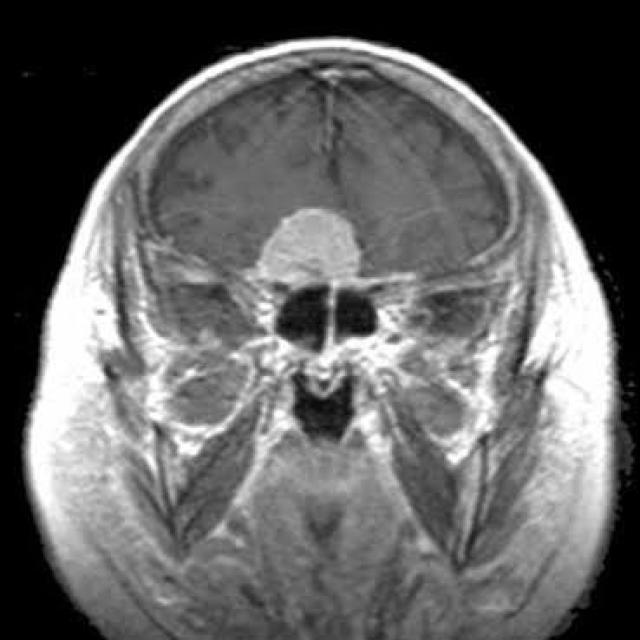brain_tumor: (257, 210, 361, 288)
